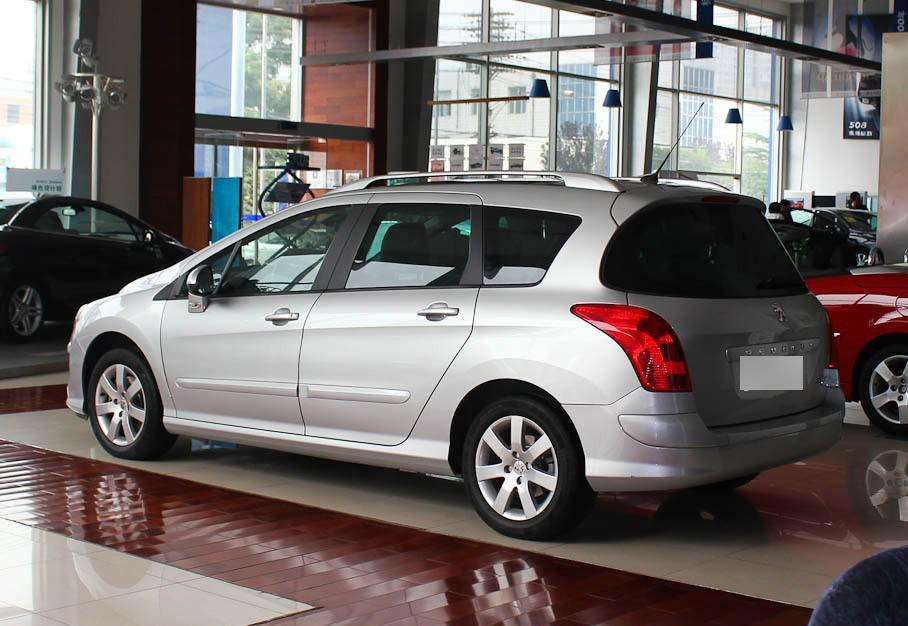Wagon: (67, 171, 845, 540)
